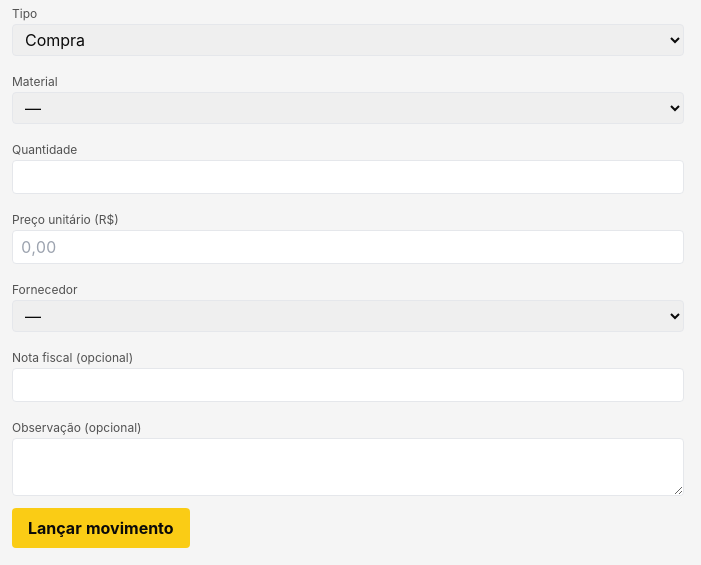
Test: MovimentoForm › requires observacao for ajuste
Select "Ajuste −" in the dropdown labelled "Tipo" at x=348, y=40, box [12,24,684,56]
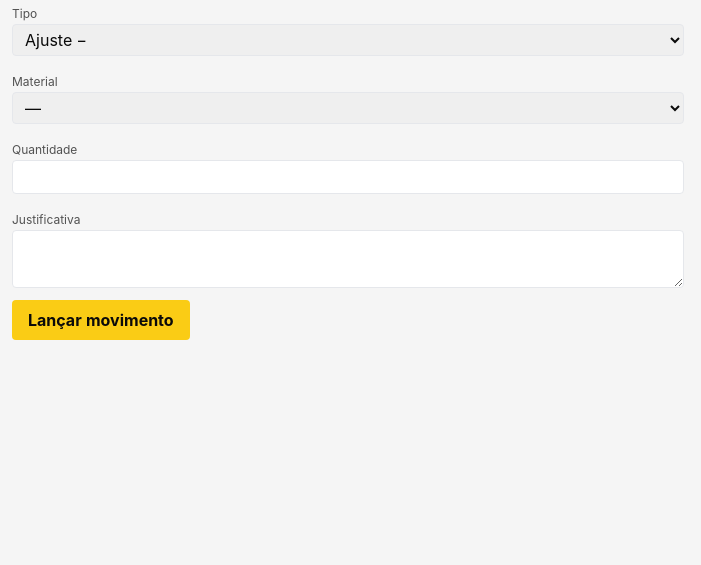
Select "MT-X · Placa X" in the dropdown labelled "Material" at x=348, y=108, box [12,92,684,124]
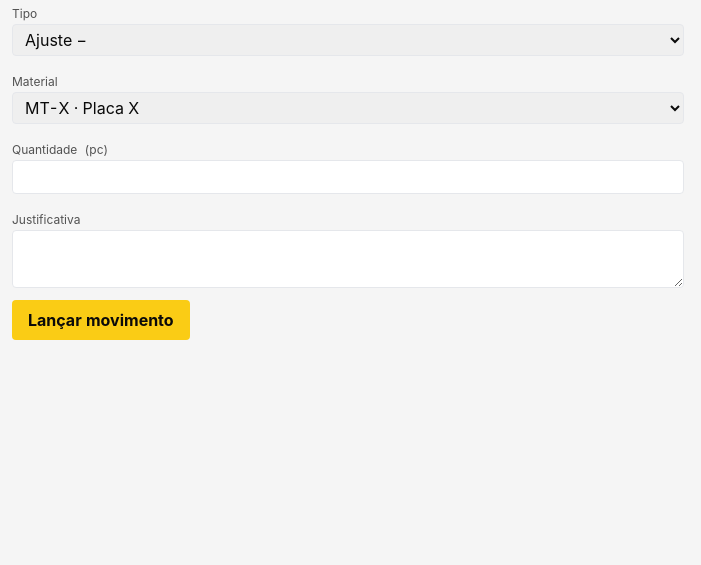
Type "1" into the number field labelled "Quantidade (pc)" at x=348, y=177, box [12,160,684,194]
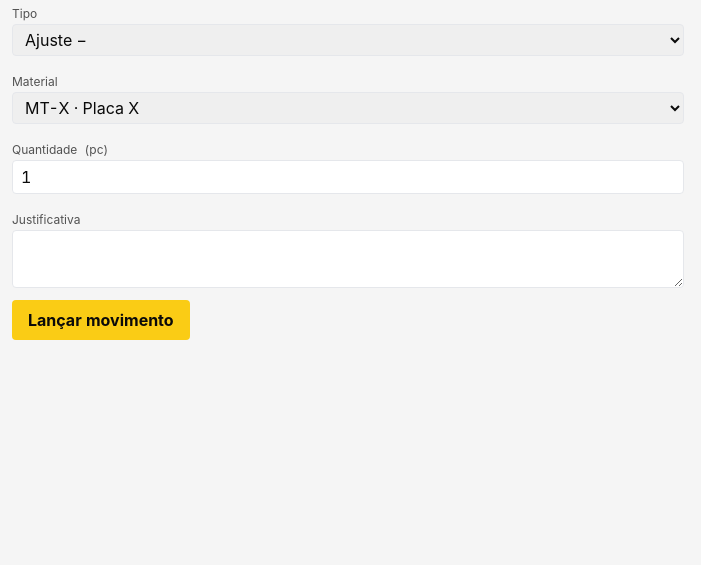
Click the button "Lançar movimento" at x=101, y=320, box [12,300,190,340]
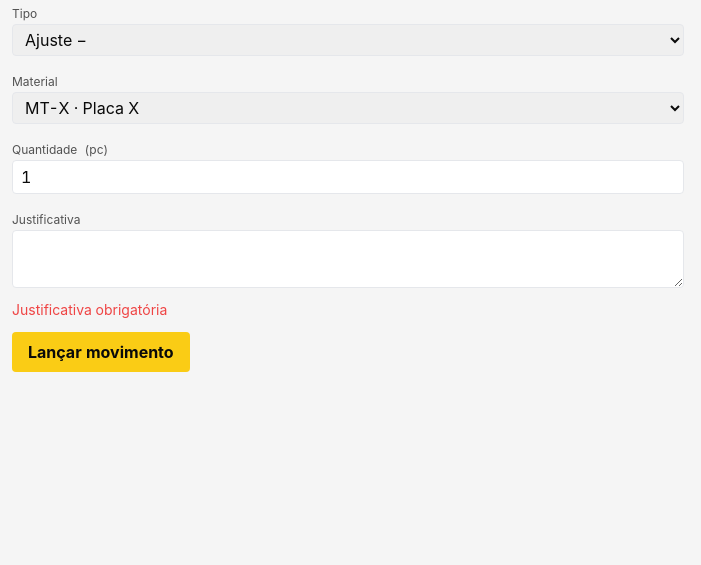
Check: the text "Justificativa obrigatória" is shown, box [12,301,167,318]
